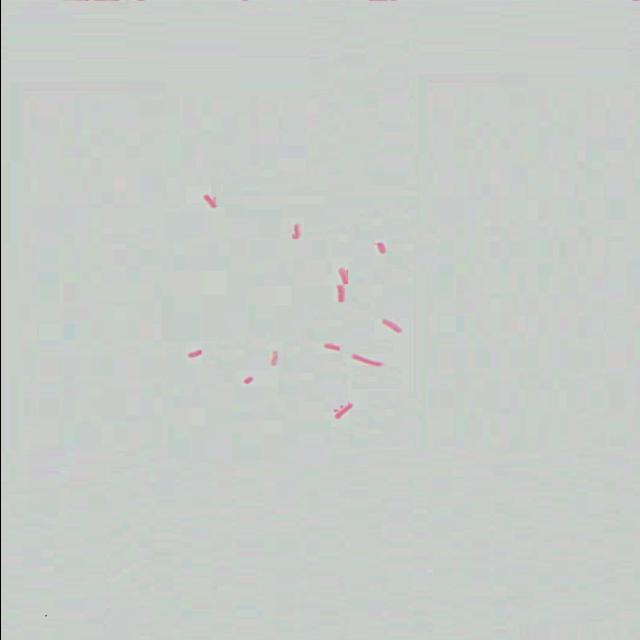E-coli: (327, 402, 355, 423), (377, 319, 403, 337), (180, 348, 208, 363), (283, 223, 305, 242), (200, 192, 220, 212), (349, 356, 381, 368), (264, 349, 282, 369), (373, 237, 391, 256), (331, 287, 347, 306), (335, 268, 351, 286), (238, 374, 258, 388), (321, 341, 341, 354)
